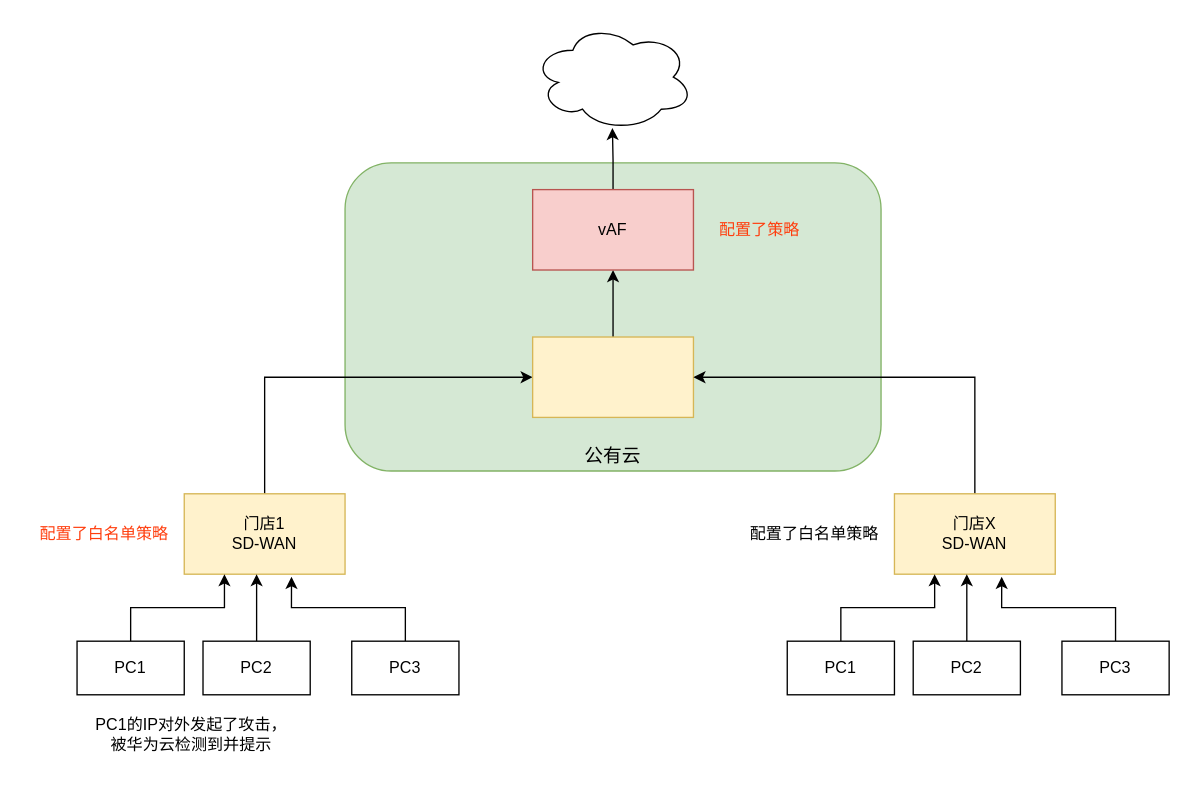
Some shapes in this 1193 by 785 pixel diagram are drawn without their labels. Here are the shapes that lost their labels. From the top down, the centre of each, then its label:
(x=612, y=76): 互联网
(x=612, y=376): vSD-WAN
